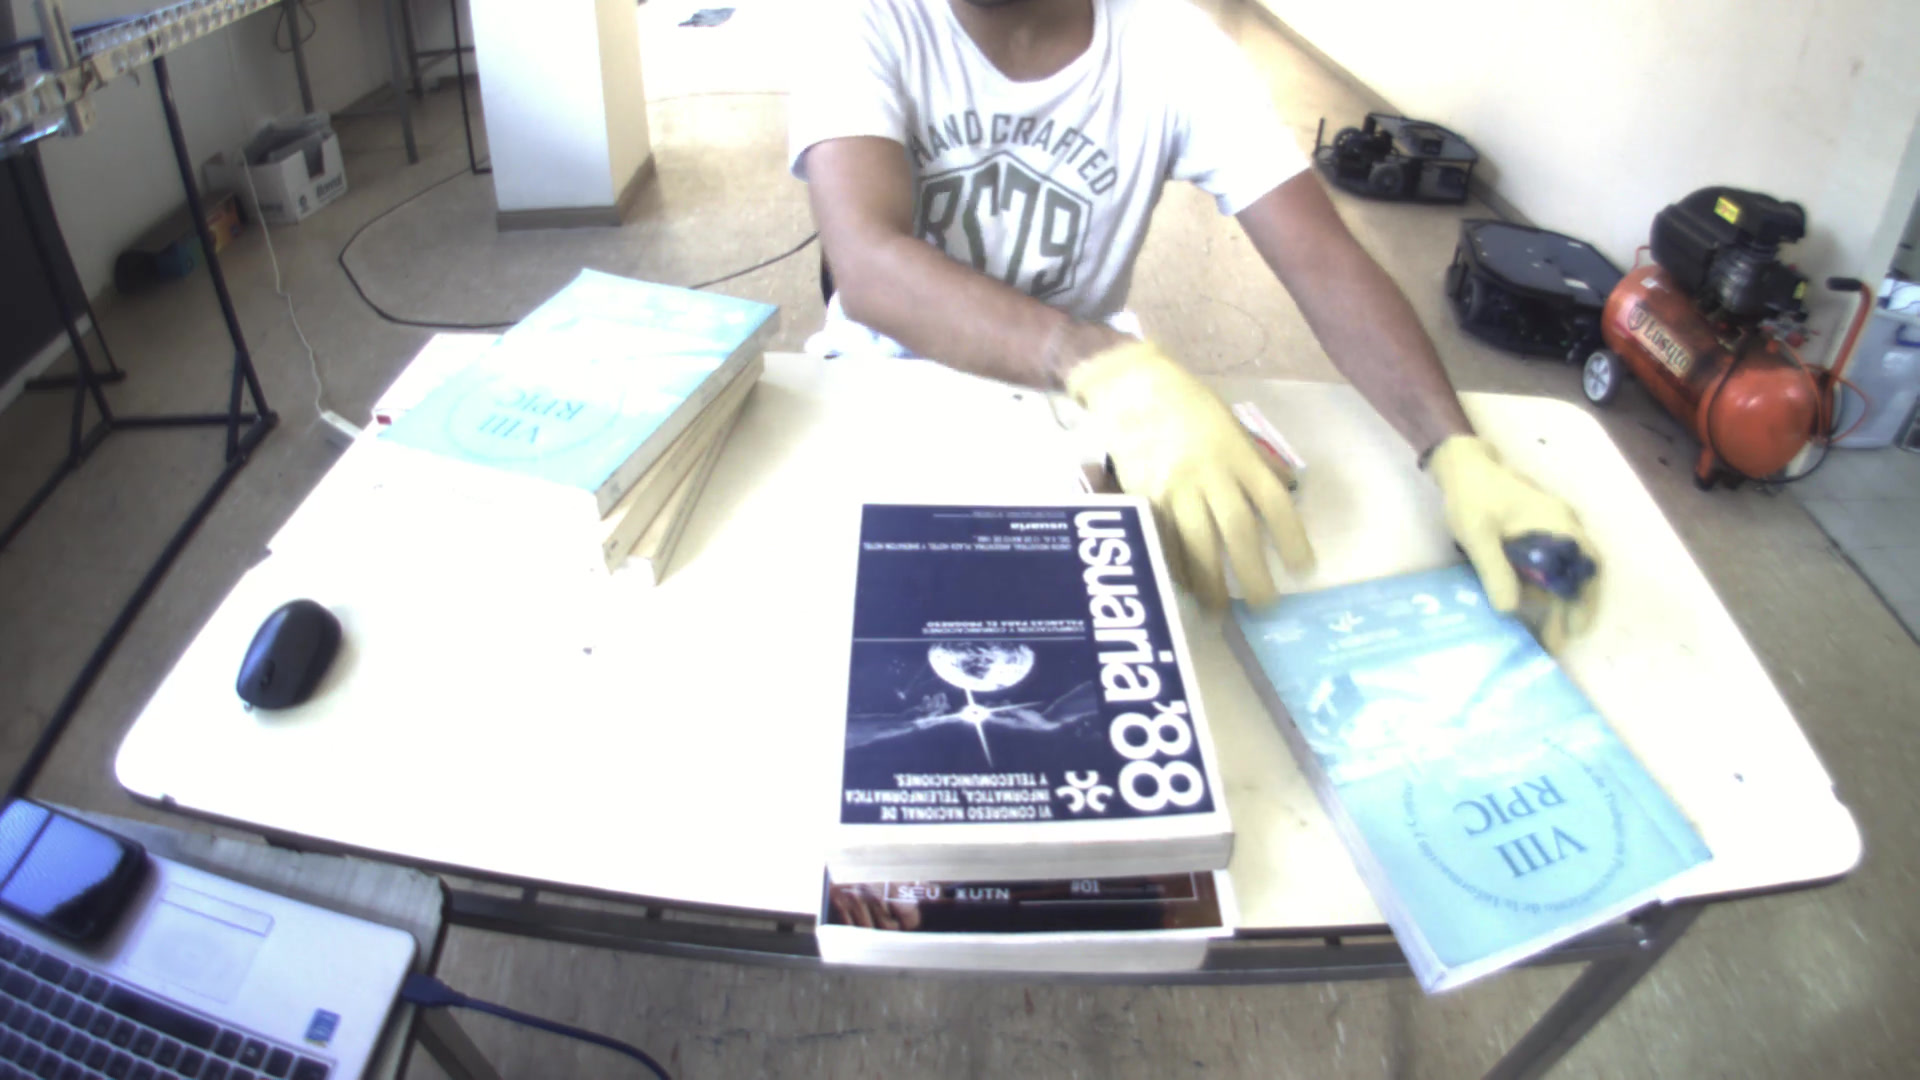hand: (1062, 328, 1323, 604), (1414, 425, 1614, 654)
